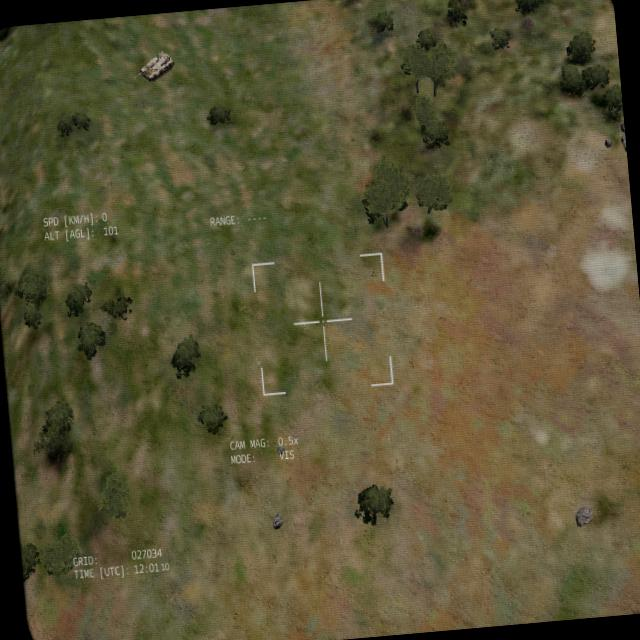tank: (130, 48, 175, 84)
